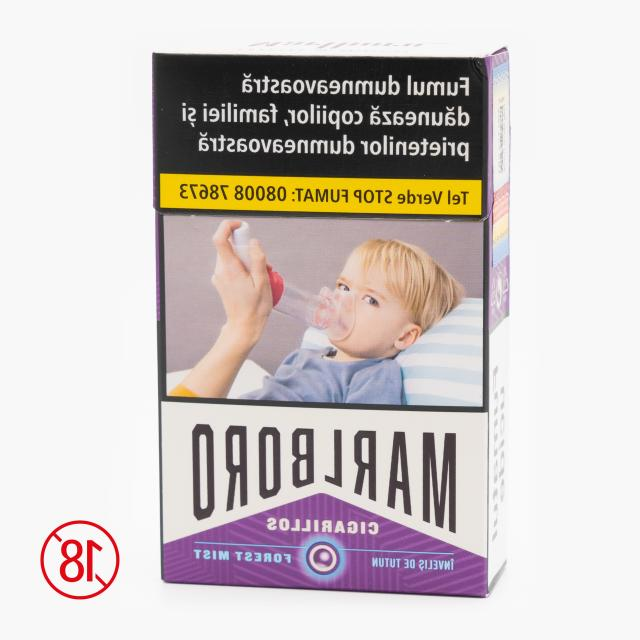marlboro: (148, 38, 514, 600)
